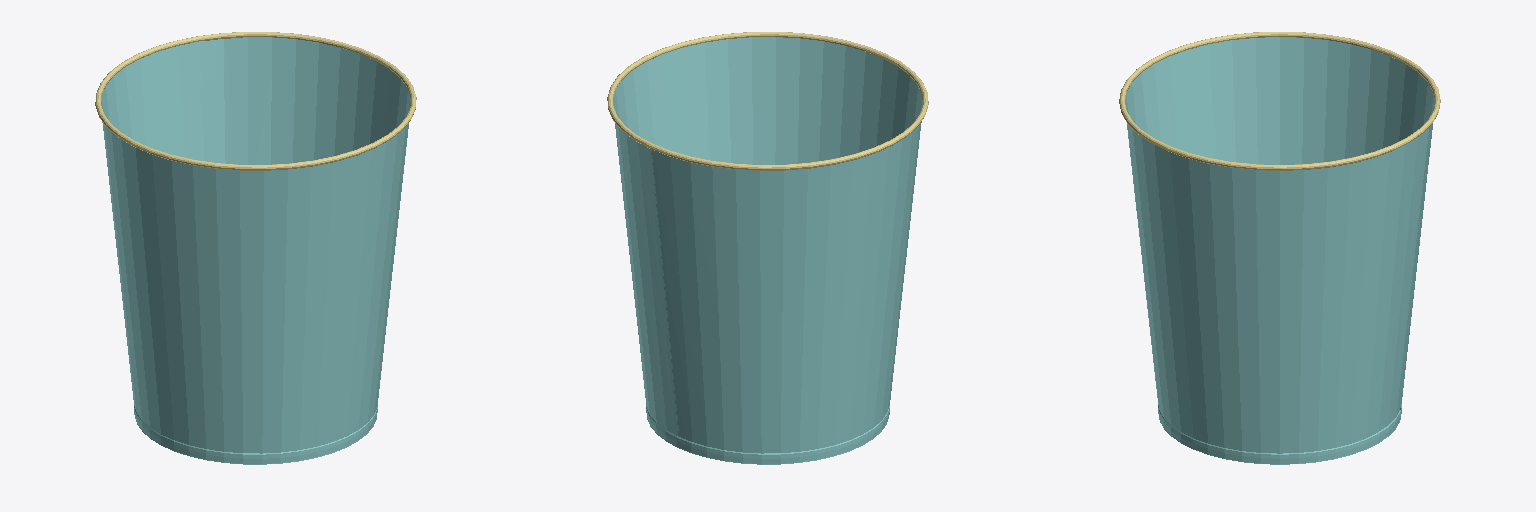
Rendered from Trash.obj.
3 views of the same model, side by side, from view 1: azimuth 30°, elevation 25°; view 2: azimuth 150°, elevation 25°; view 3: azimuth 270°, elevation 25° (orthographic).
Visible parts, largest first — view 1: Cylinder001, Torus002, Object001; view 2: Cylinder001, Torus002, Object001; view 3: Cylinder001, Torus002, Object001.
Part boxes in pixels (bbox=[...]): Cylinder001: bbox=[101, 37, 410, 453]; Torus002: bbox=[95, 32, 416, 170]; Object001: bbox=[134, 406, 377, 464]; Cylinder001: bbox=[613, 37, 922, 453]; Torus002: bbox=[607, 32, 928, 170]; Object001: bbox=[646, 406, 889, 464]; Cylinder001: bbox=[1125, 37, 1434, 453]; Torus002: bbox=[1119, 32, 1440, 170]; Object001: bbox=[1158, 404, 1401, 464].
Bounding box in the file's own units: 1.93 × 2.09 × 1.93.